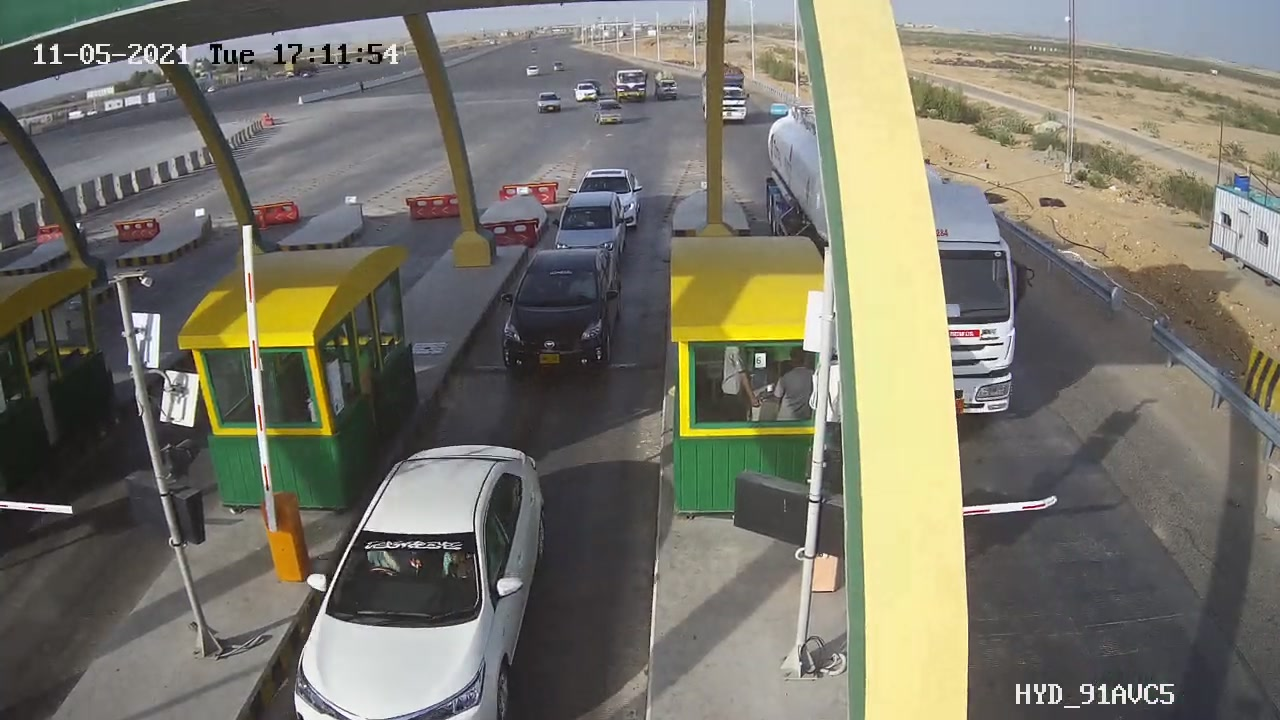F1: (485, 239, 633, 386)
